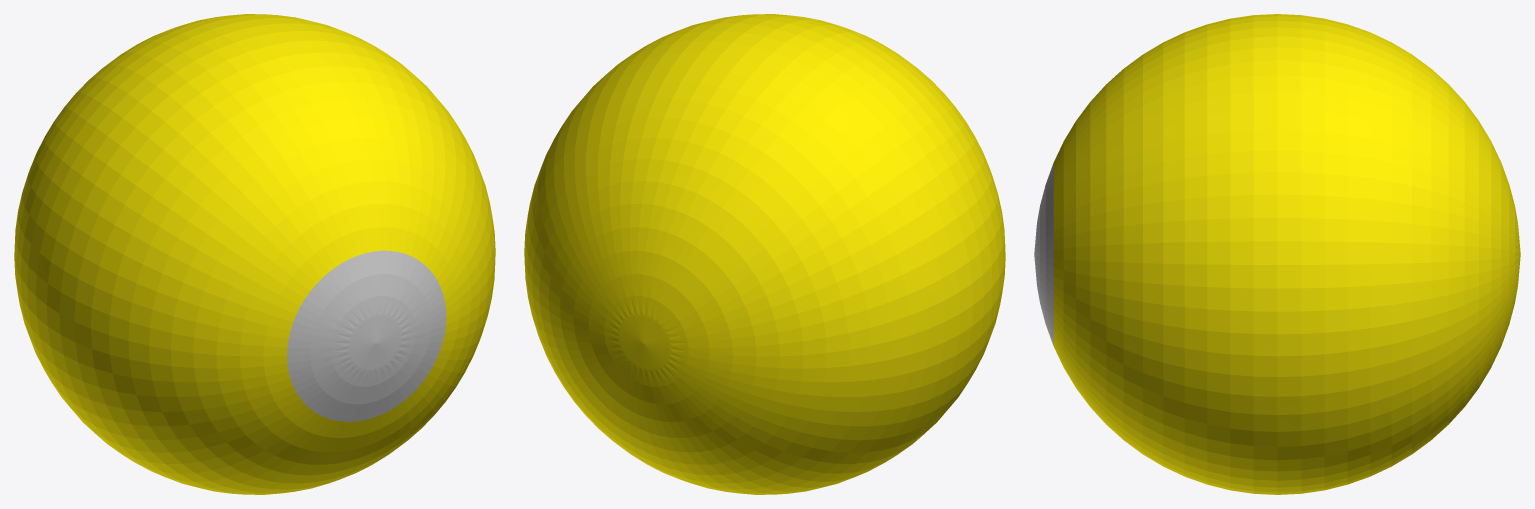
File: 1_ball.obj
3 views of the same model, side by side, from view 1: azimuth 30°, elevation 25°; view 2: azimuth 150°, elevation 25°; view 3: azimuth 270°, elevation 25° (orthographic).
Visible parts, largest first — view 1: Solid.014; view 2: Solid.014; view 3: Solid.014.
Boxes of the visible parts, x1,y1,x2,y2 form: Solid.014: (14,14,495,494); Solid.014: (524,14,1005,494); Solid.014: (1034,14,1520,494).
Size of the model in its own units: 0.0786 by 0.0786 by 0.0794.
